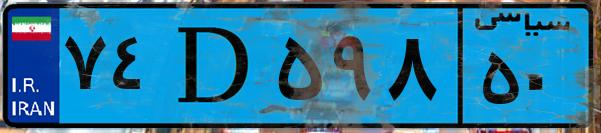0: (525, 38, 570, 115)
4: (110, 28, 158, 98)
5: (270, 28, 330, 110), (475, 38, 525, 113)
7: (57, 26, 110, 100)
8: (385, 28, 445, 110)
9: (330, 28, 385, 110)
D: (158, 12, 270, 120)
